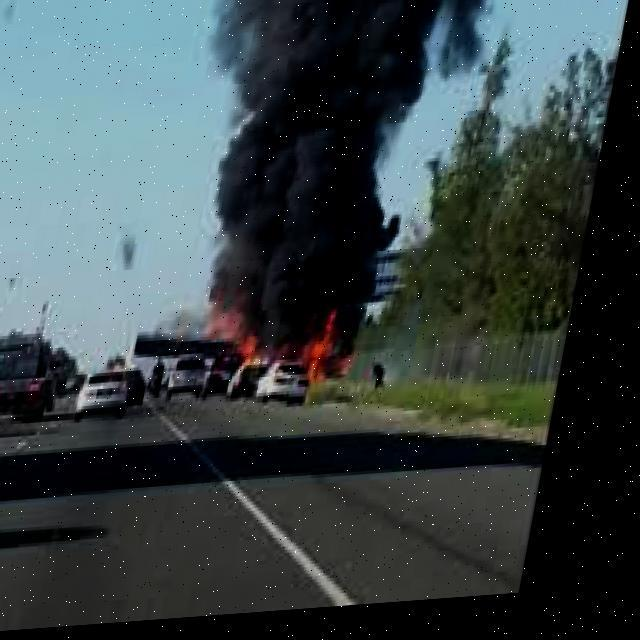Fire: (206, 294, 376, 409)
